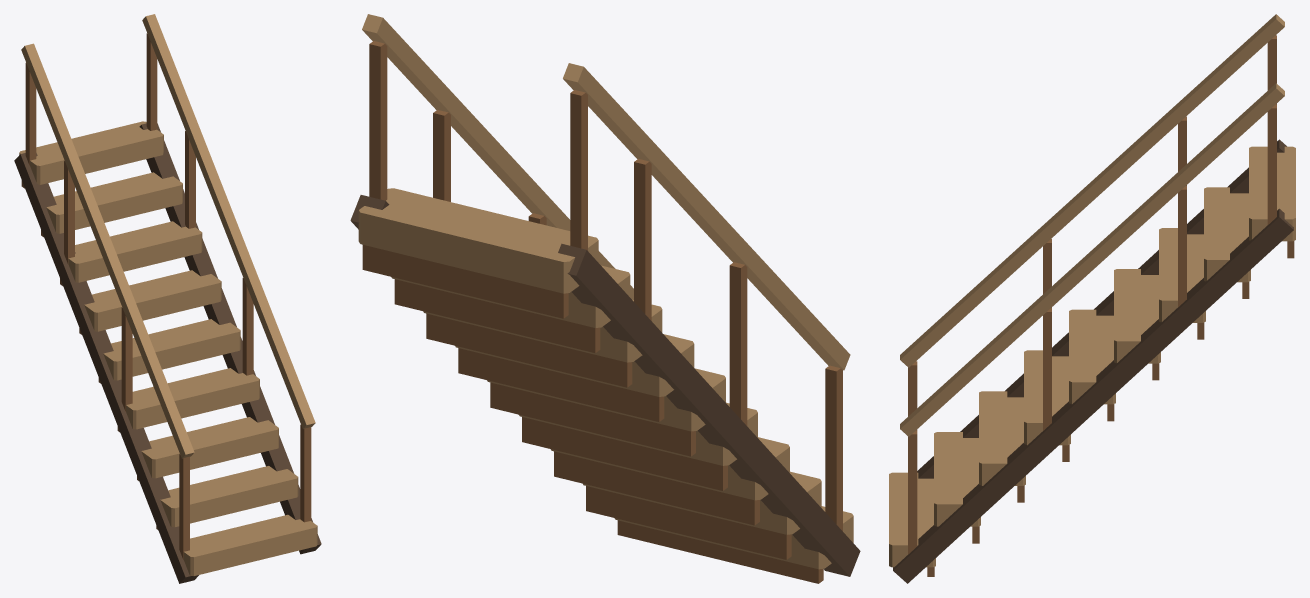
Rendered from stairs_up.glb.
The picture shows the model from 3 angles, left to right: view 1: azimuth 30°, elevation 25°; view 2: azimuth 150°, elevation 25°; view 3: azimuth 270°, elevation 25°; orthographic projection. The views are drawn at different scales.
Visible parts, largest first — view 1: geometry; view 2: geometry; view 3: geometry.
Part boxes in pixels (left/top/right/bottom): geometry: left=14, top=14, right=321, bottom=583; geometry: left=350, top=14, right=860, bottom=583; geometry: left=889, top=14, right=1295, bottom=583.
Bounding box in the file's own units: 0.9 × 2.67 × 1.99.
